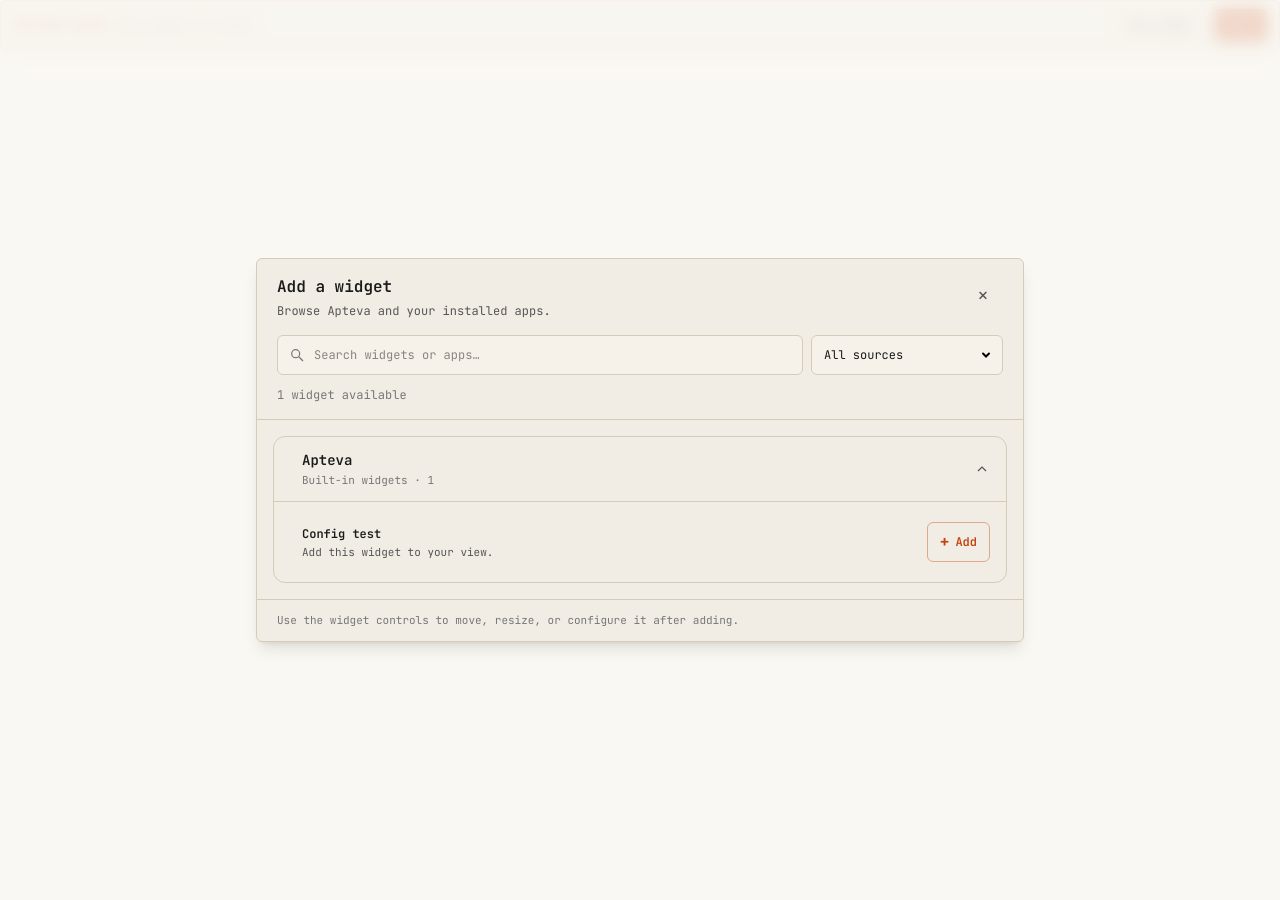
Scenario: a failed Add rolls back the layout and keeps its draft available for retry
Click the button with aria-label "Add Config test".
click(958, 542)  # box [927, 522, 990, 562]
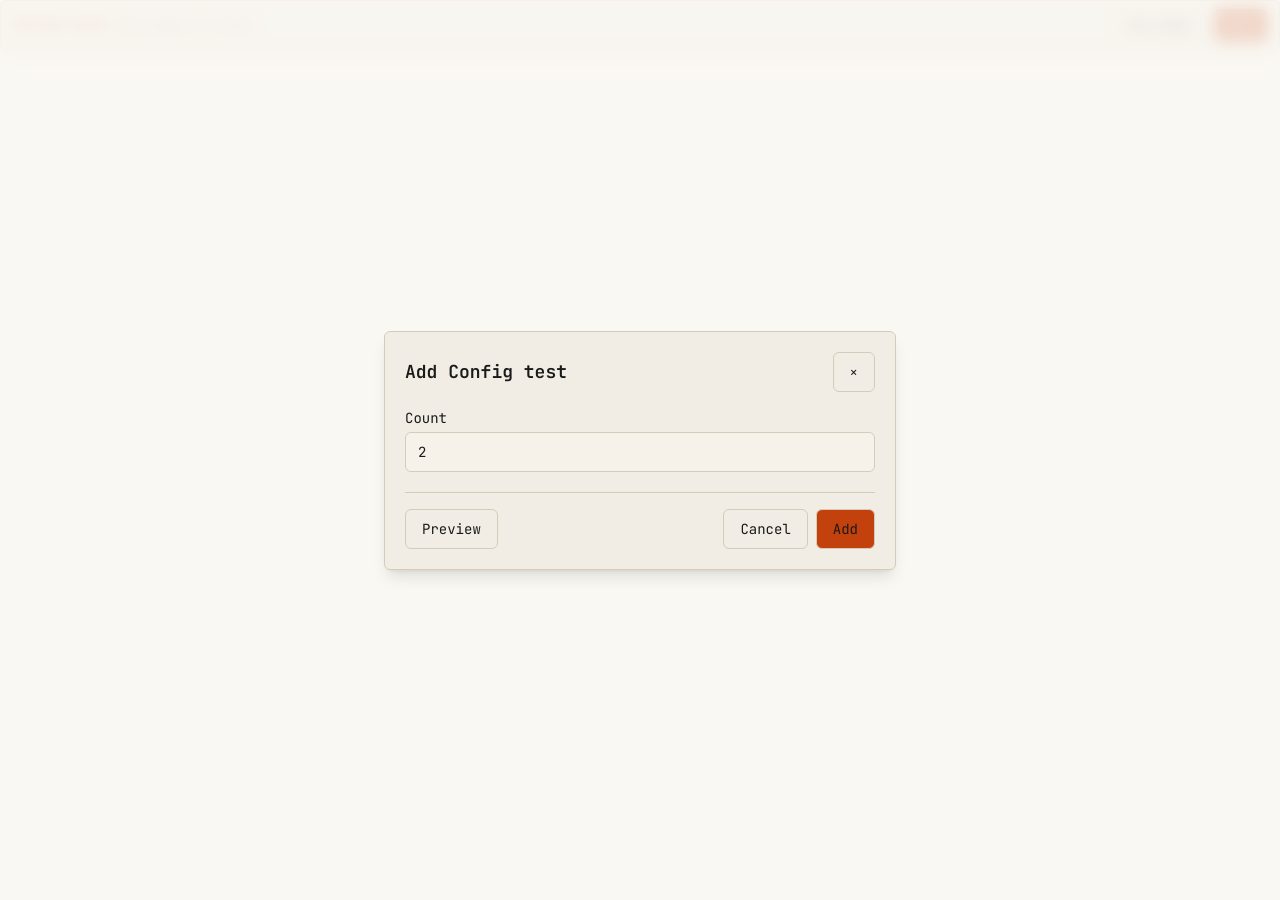
Replace the text in the number field labelled "Count" with "8" at [640, 452], box [405, 432, 875, 472]
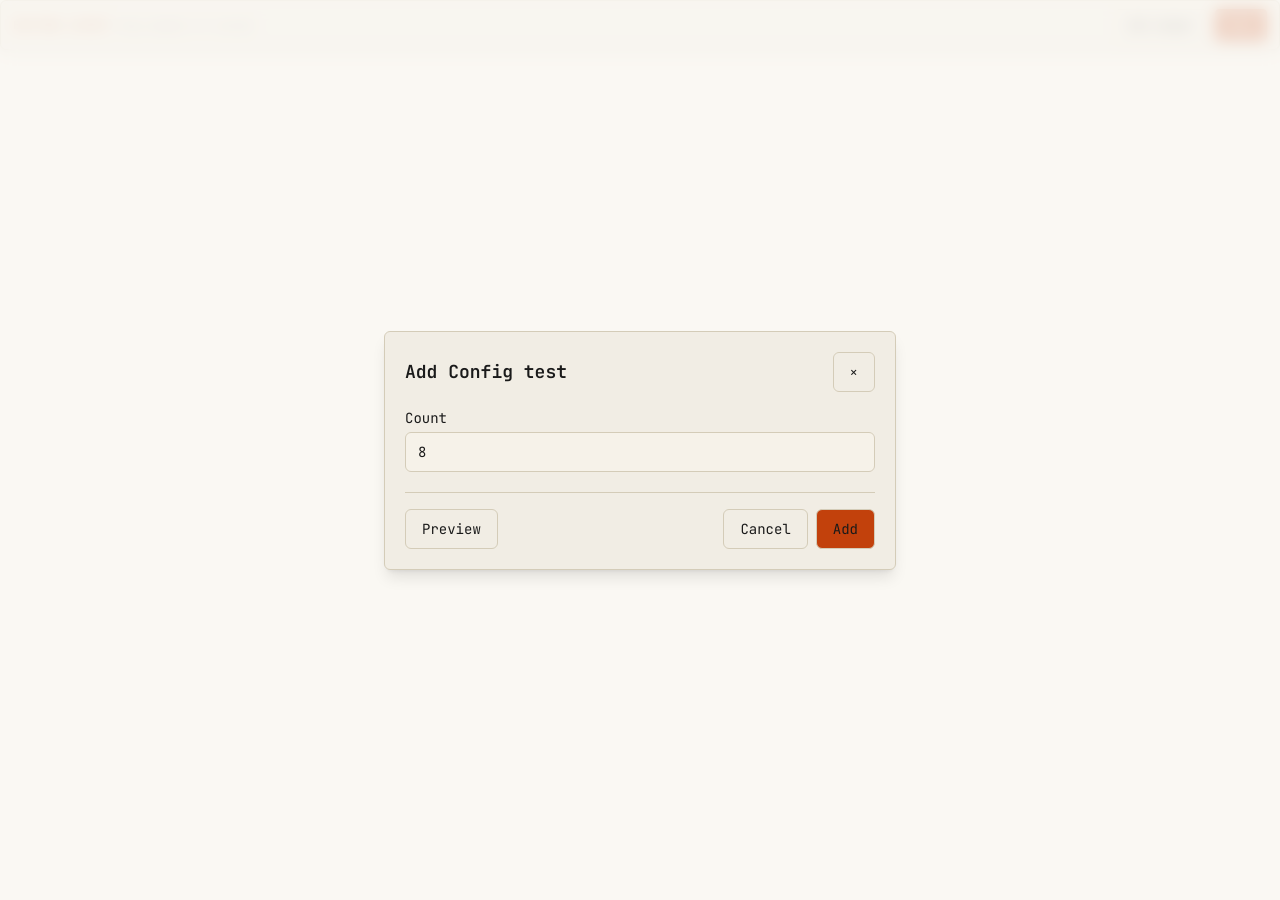
Click the button "Add".
click(845, 528)  # box [816, 508, 875, 548]
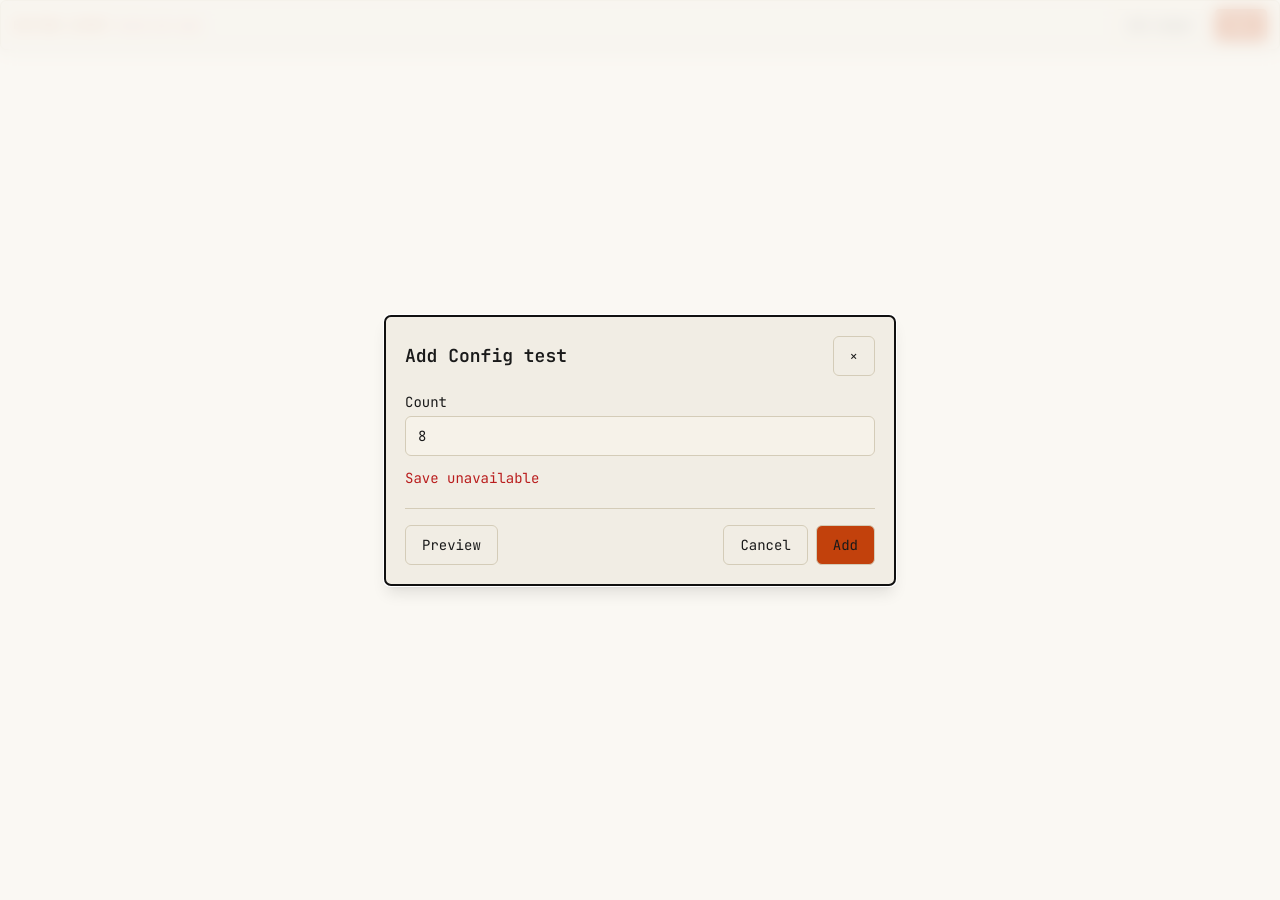
Check: the text "Save unavailable" is shown, box [405, 468, 539, 486]
Click the button "Add".
click(845, 544)  # box [816, 524, 875, 564]
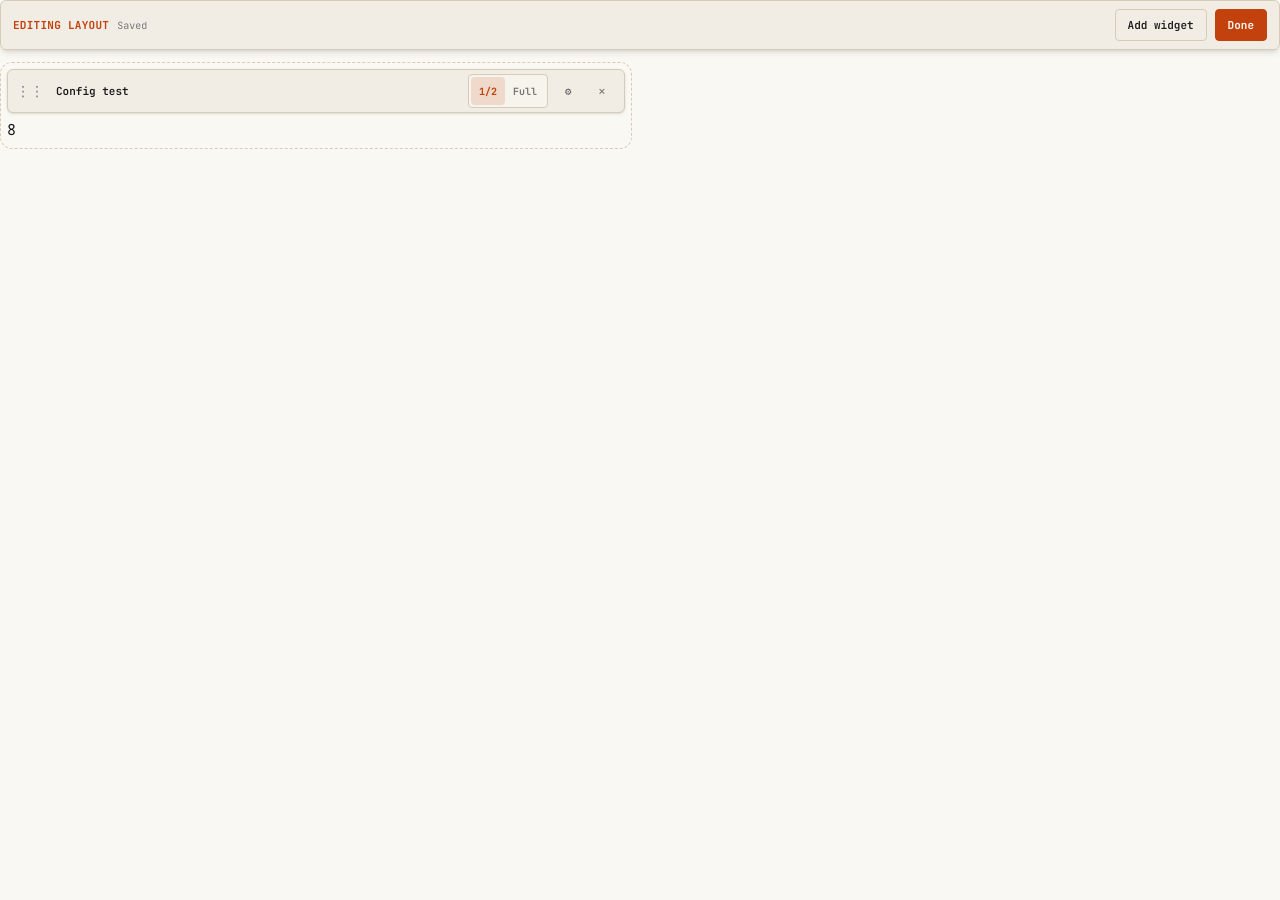
Check: the heading "Add Config test" is gone
Check: the text with test id "saved-widget" reads "8", box [7, 120, 16, 140]
